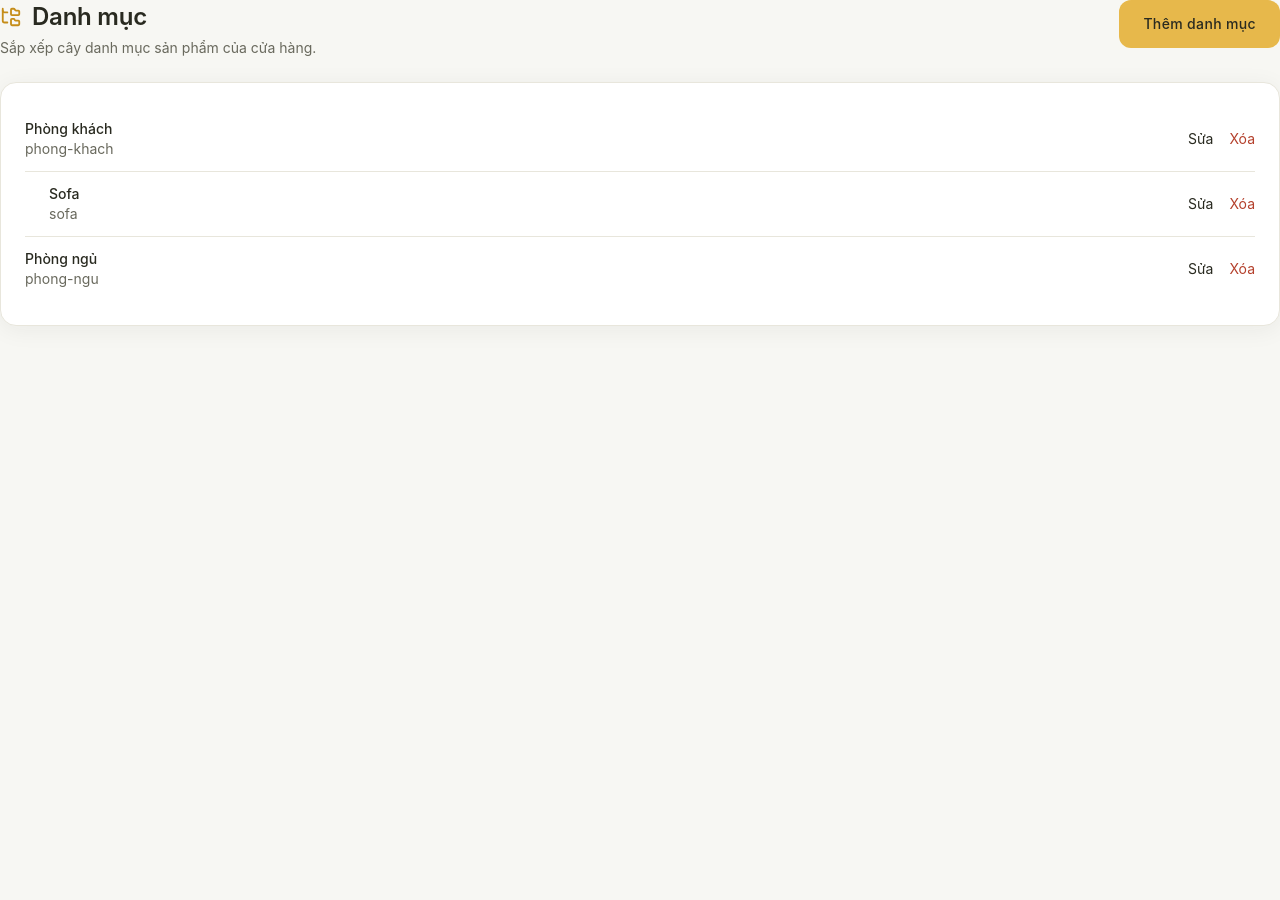
AdminCategoriesPage › announces and focuses a safe form-level message on network failure
Expected: the text "Phòng khách" is shown, [25,119,114,139]
Click the button "Thêm danh mục". click: x=1200, y=24
box: [1119,0,1279,48]
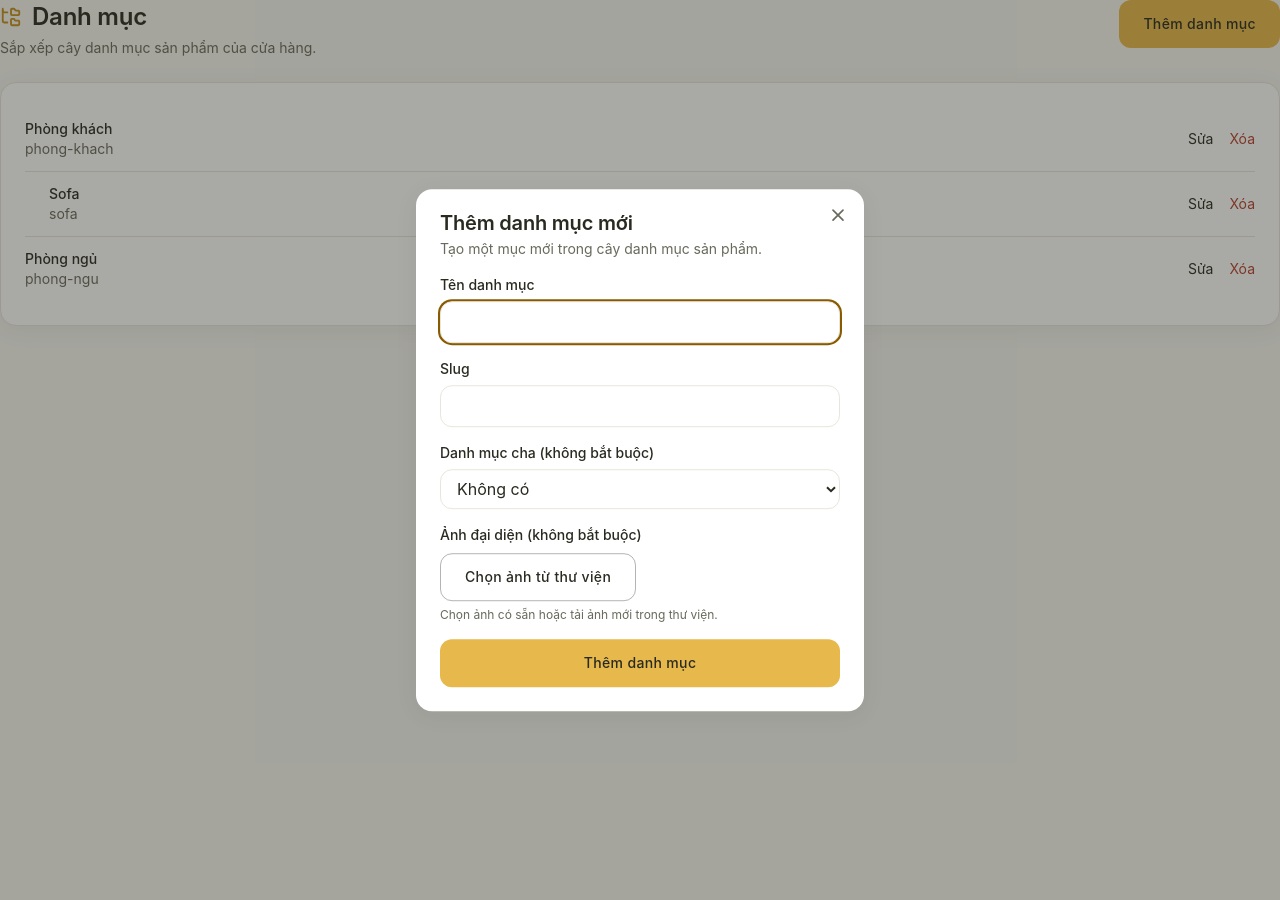
Type "Kệ sách" into the field labelled "Tên danh mục". click: x=640, y=322
box: [440,301,840,343]
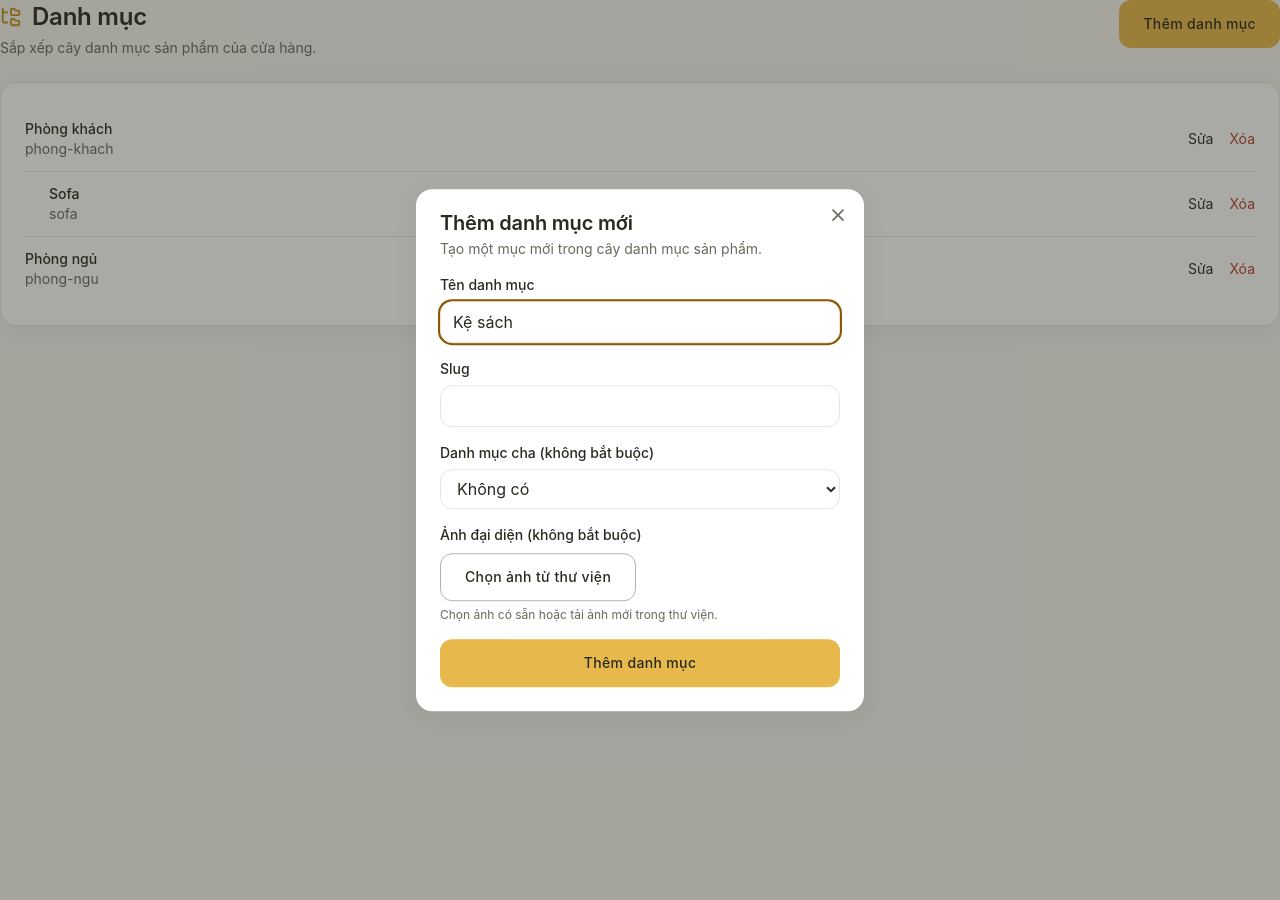
Type "ke-sach" into the field labelled "Slug". click: x=640, y=406
box: [440,385,840,427]
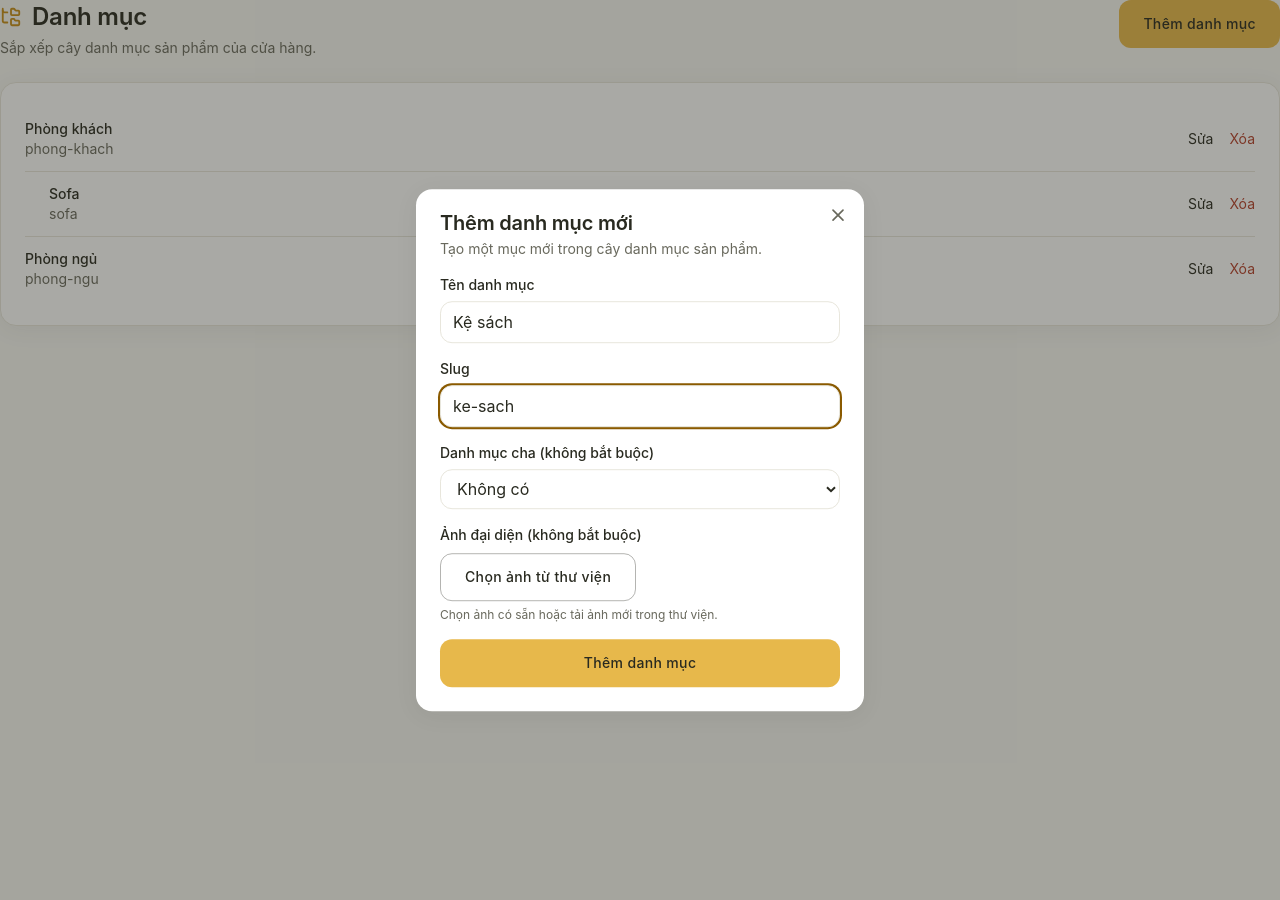
Click the button "Thêm danh mục". click: x=640, y=663
box: [440,639,840,687]
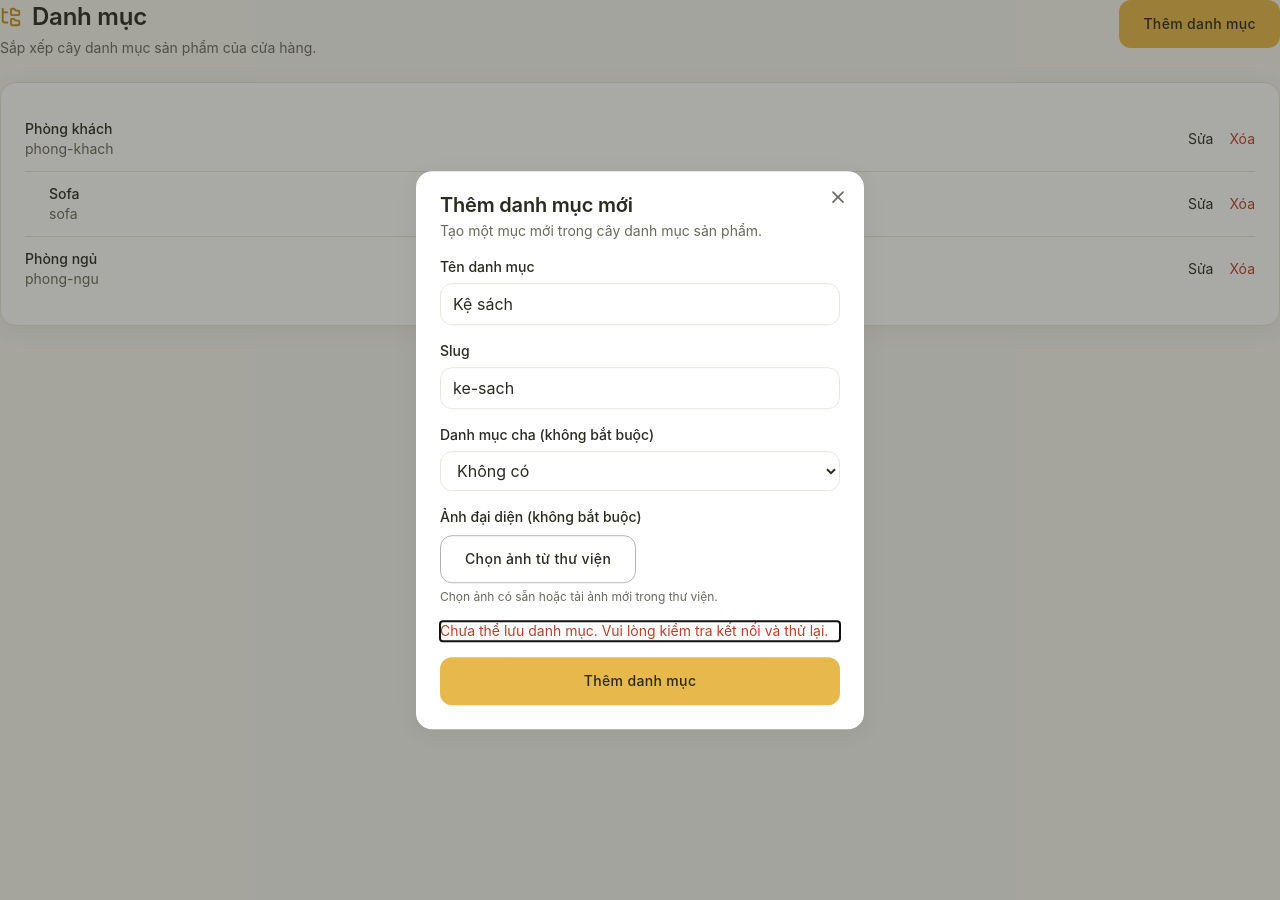
Now the message shows "Chưa thể lưu danh mục", box [440,622,828,639]
